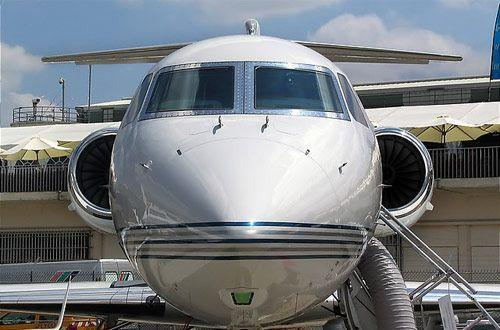airplane: (40, 18, 467, 324)
